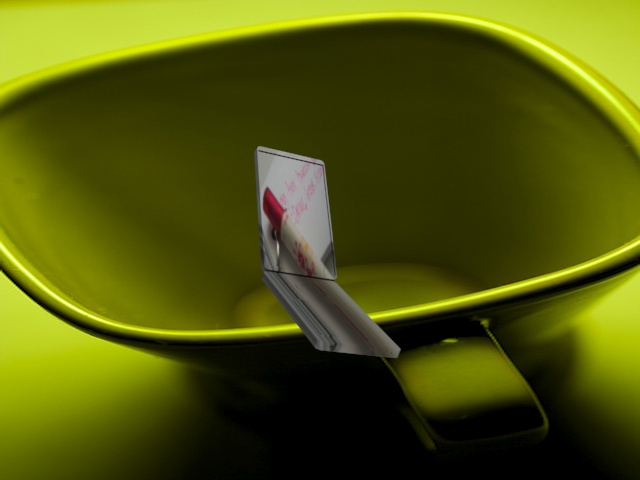mobile_phone: (249, 145, 408, 368)
